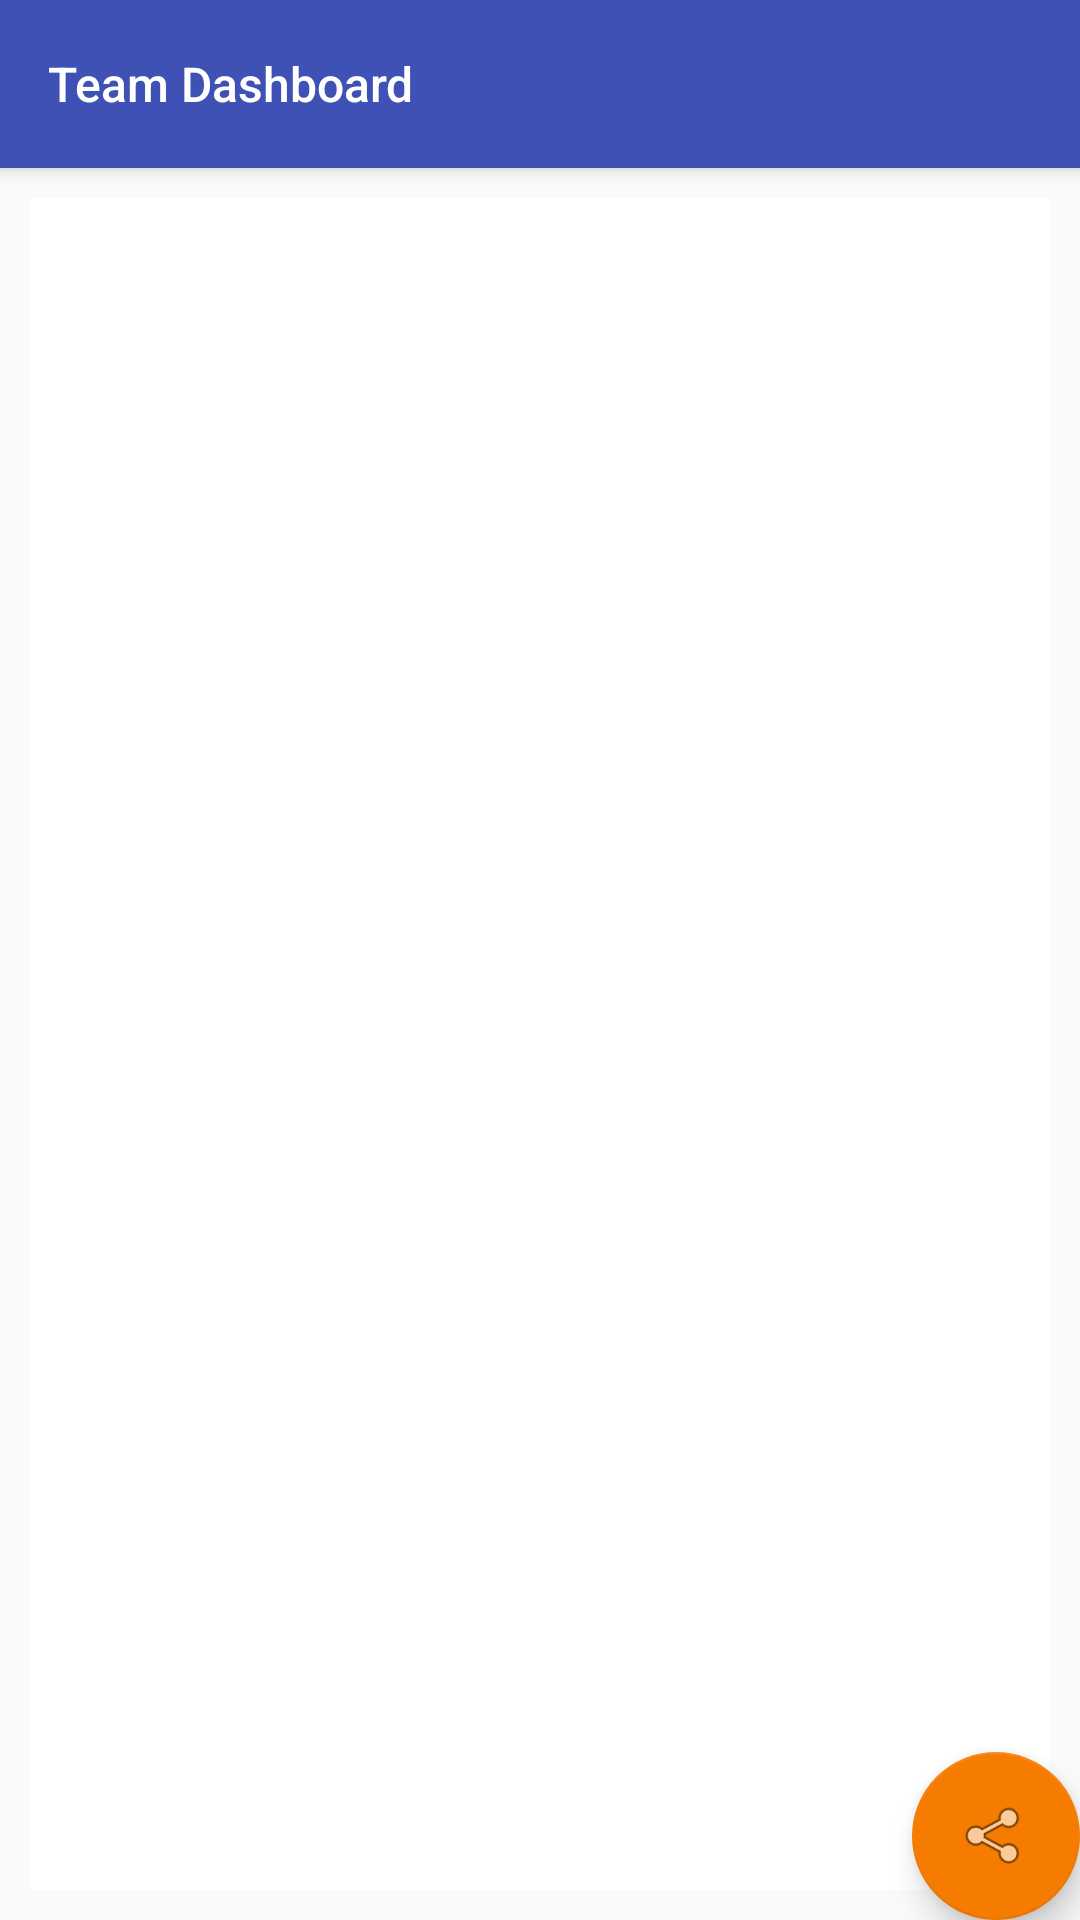

Screen size 1080*1920. Icon name, then its center in pixels as (x=x, y=y):
share: (x=996, y=1836)
